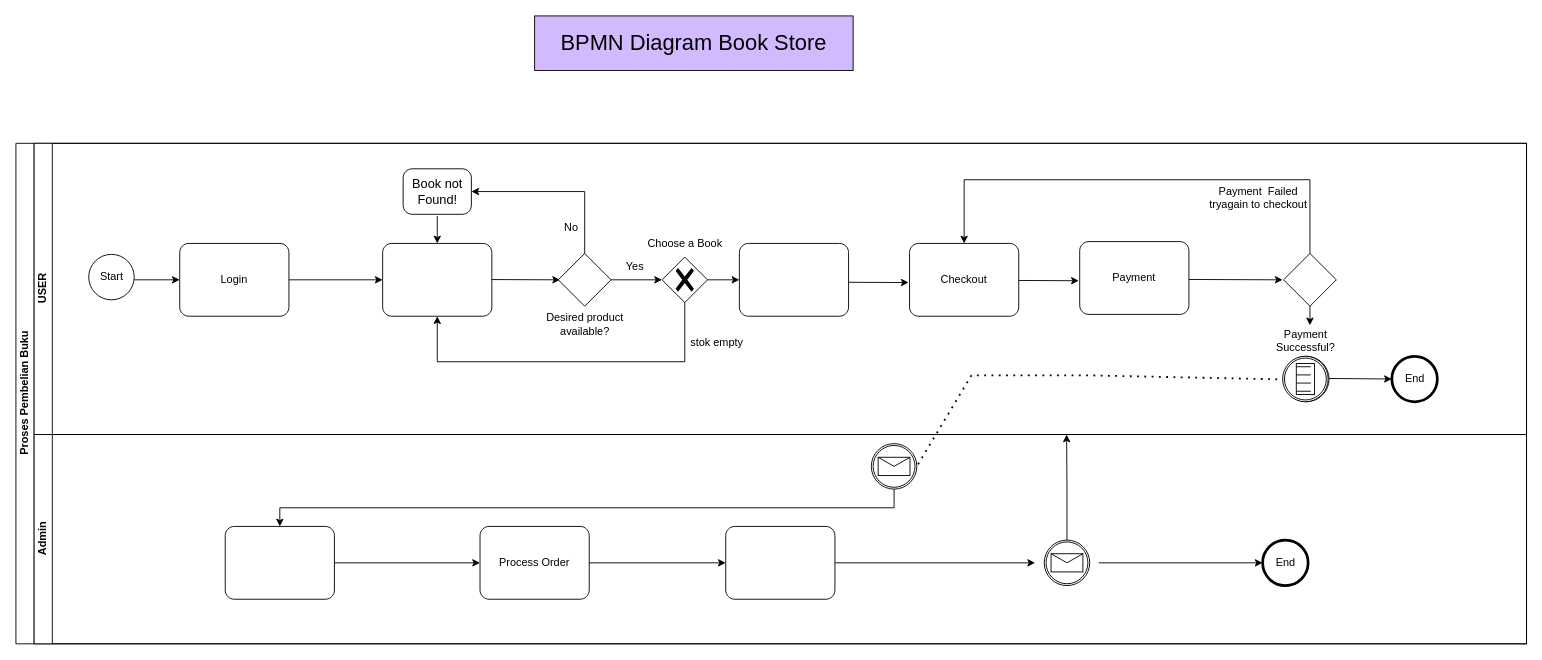
This 1542x660 diagram has some shape labels left out. Here are the shapes that lost their labels. From the top down, the centre of each, then its label:
At point (437, 279): "Browse or search book".
At point (793, 279): "Add book to cart".
At point (893, 466): "Register Order".
At point (279, 562): "Order Received".
At point (780, 562): "Shipping".
At point (1066, 562): "Send Order Info".
